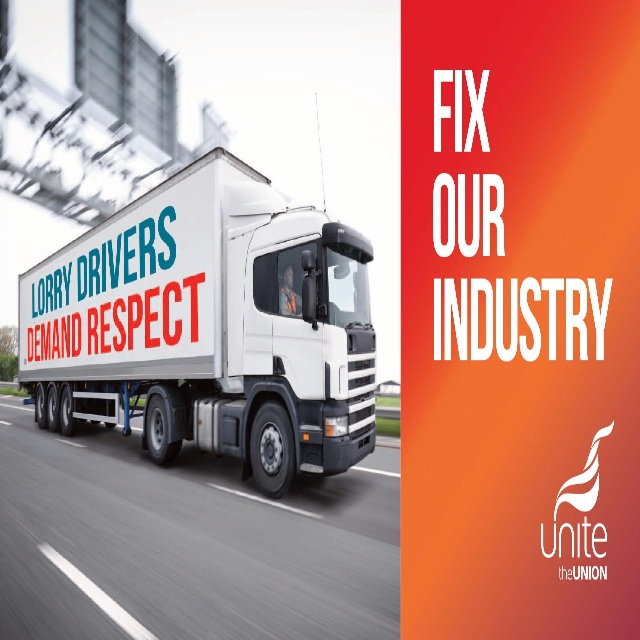Truck: (17, 145, 376, 501)
